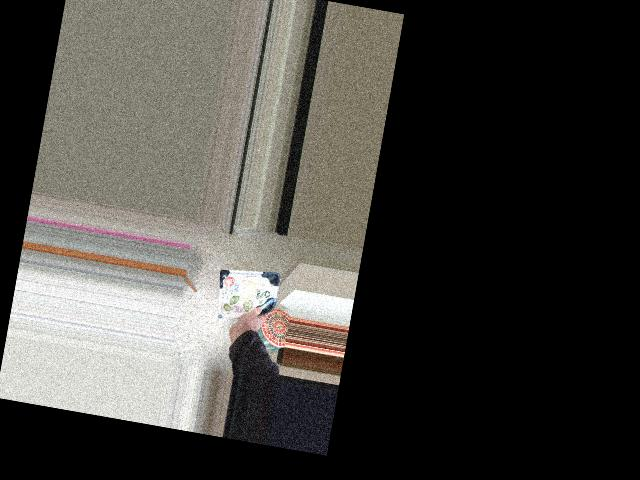cheese: (211, 280, 270, 334)
